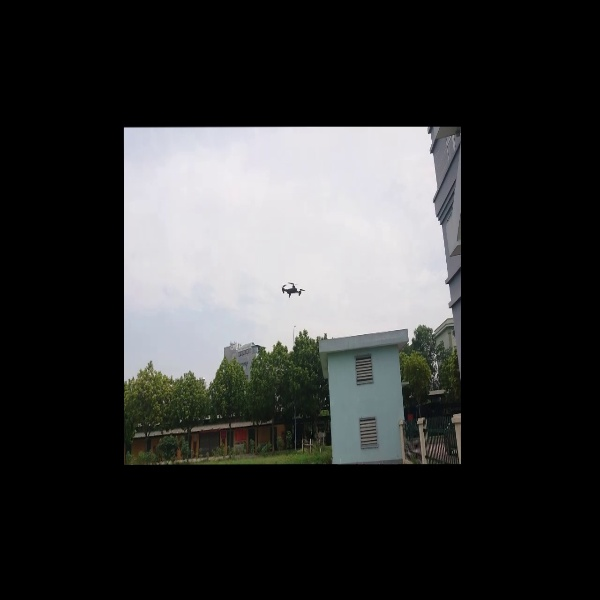drone: (274, 276, 307, 305)
